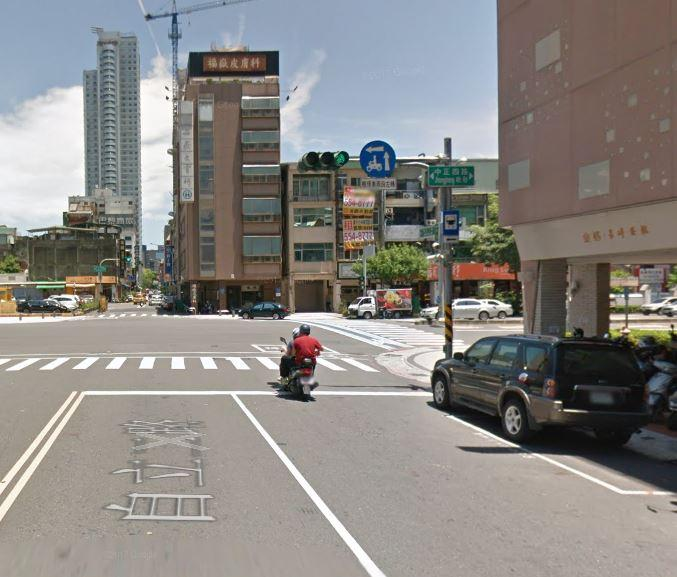car: (429, 332, 650, 451), (421, 294, 499, 327), (238, 295, 293, 324), (472, 293, 519, 316)
green_traffic_light: (298, 148, 349, 168)
motorcycle: (276, 333, 319, 399)
truck: (346, 282, 414, 324)
